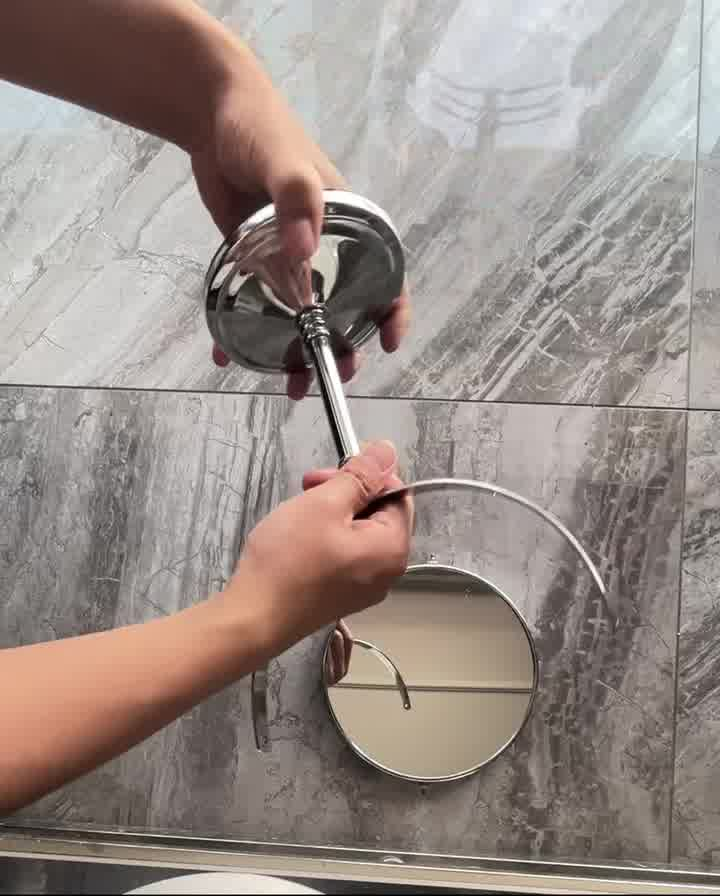base: (185, 181, 432, 375)
frame: (224, 323, 618, 609)
mirror: (306, 560, 545, 794)
